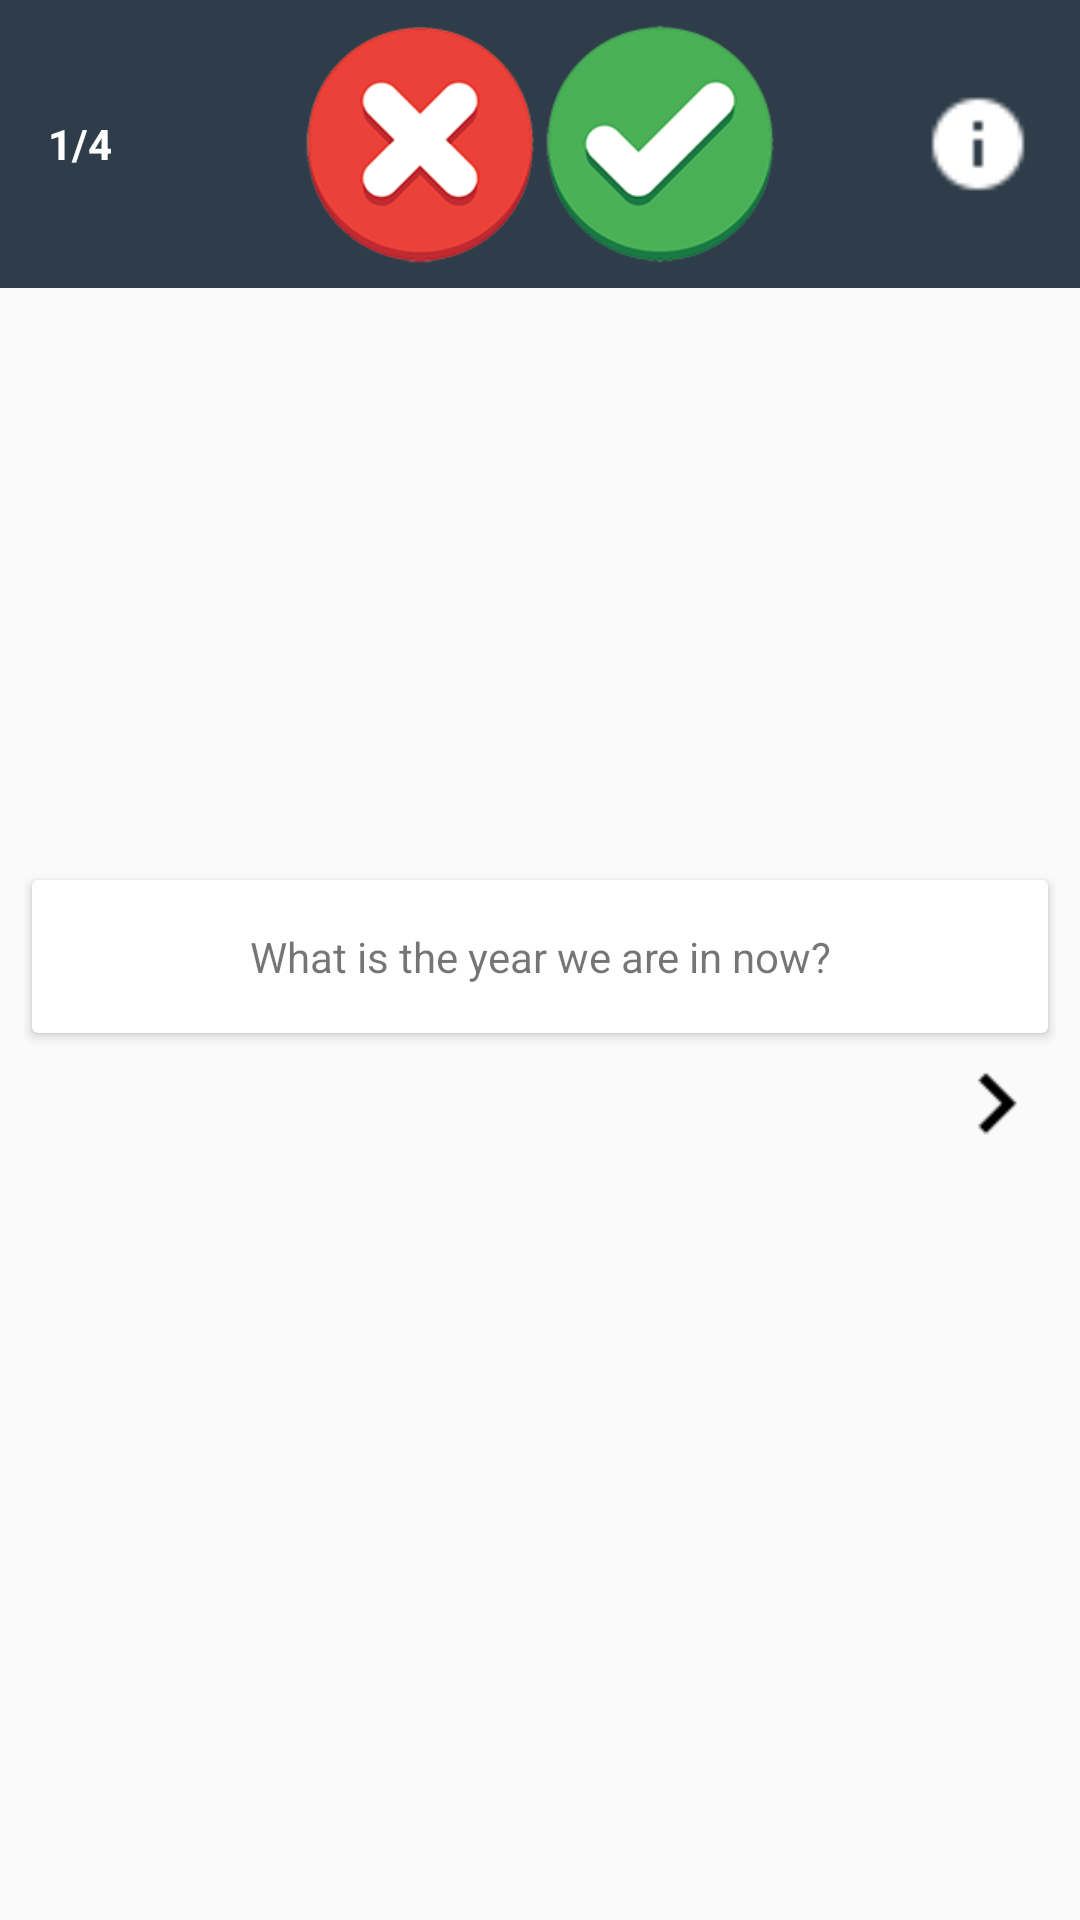

Icon click points for this 1080 x 1920 phone screenshot, format [x,y]:
correct: [659,144]
info: [978,144]
keyboard arrow right: [997,1103]
wrong: [420,145]
